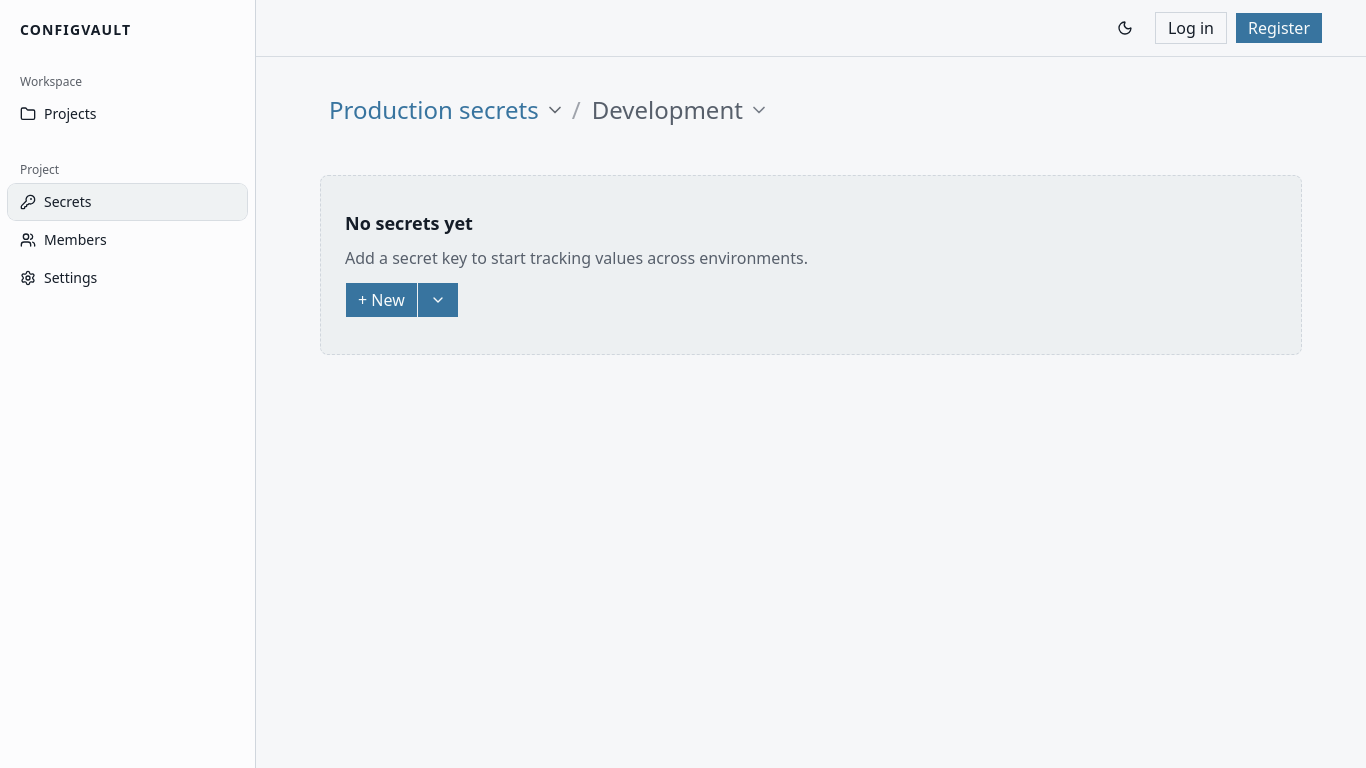
Test: ProjectDetailPage › updates the secrets route query string when selecting an environment
Click the button named "Environment" at (678, 110), box [583,89,774,131]
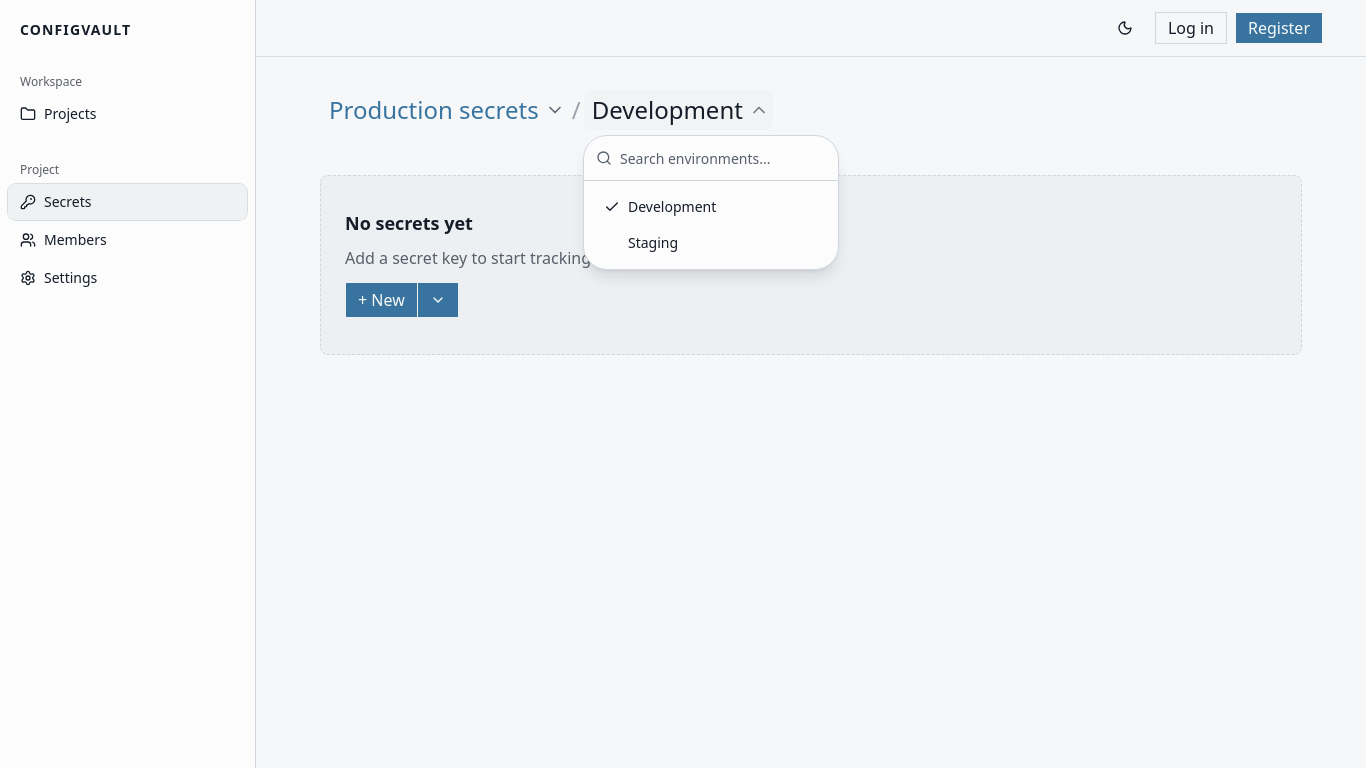
Click the option "Staging" at (653, 242), box [628,233,678,252]
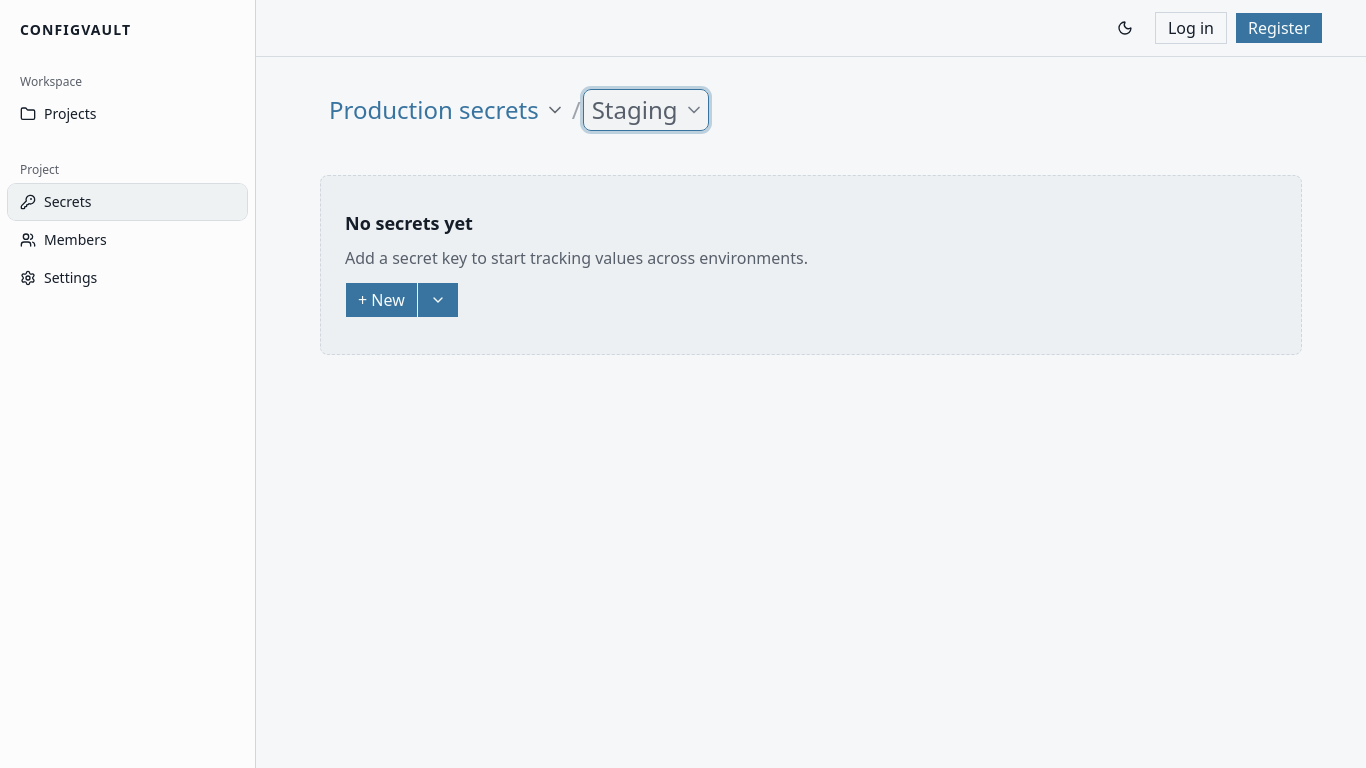
Expected: the button named "Environment" reads "Staging", [583,89,709,131]
